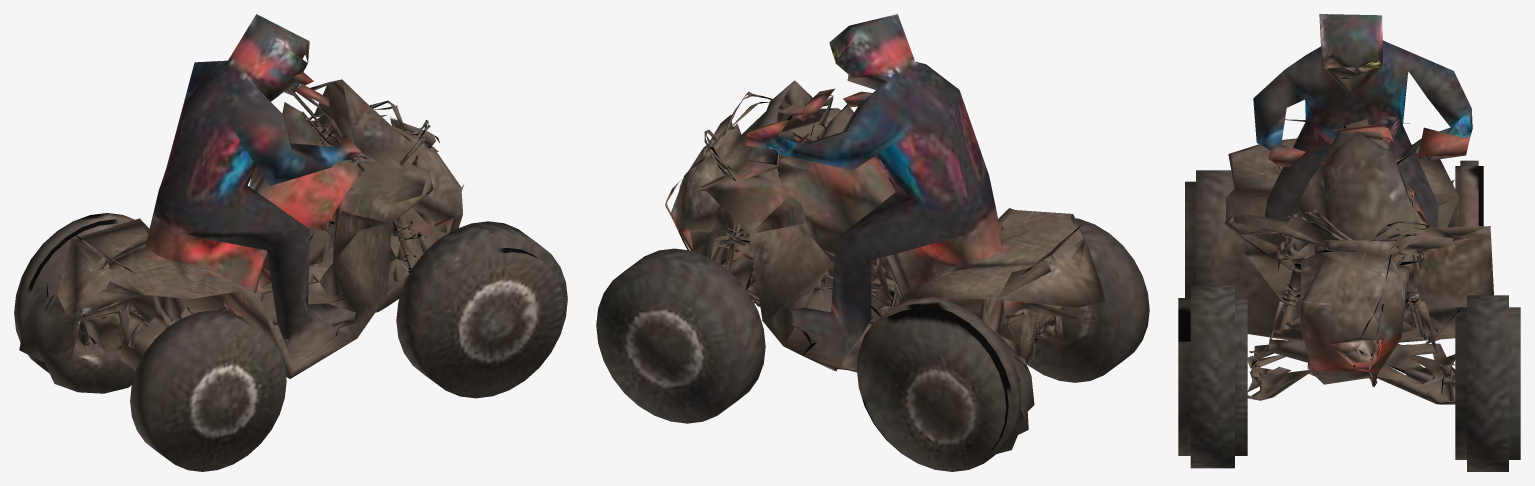
File: atv_gen.glb
3 renders of one model, left to right at view 1: azimuth 30°, elevation 25°; view 2: azimuth 150°, elevation 25°; view 3: azimuth 270°, elevation 25°, orthographic. The views are drawn at different scales.
Visible parts, largest first — view 1: Body, Wheel_FL, Wheel_RL, Wheel_RR; view 2: Body, Wheel_FR, Wheel_RR, Wheel_RL; view 3: Body, Wheel_FL, Wheel_FR, Wheel_RL, Wheel_RR.
Boxes of the visible parts, x1,y1,x2,y2 form: Body: [19, 14, 464, 393]; Wheel_FL: [396, 221, 567, 398]; Wheel_RL: [130, 310, 286, 471]; Wheel_RR: [14, 213, 134, 372]; Body: [665, 14, 1105, 453]; Wheel_FR: [596, 248, 765, 423]; Wheel_RR: [857, 297, 1021, 471]; Wheel_RL: [1027, 218, 1149, 382]; Body: [1211, 14, 1493, 404]; Wheel_FL: [1178, 285, 1247, 468]; Wheel_FR: [1455, 295, 1520, 471]; Wheel_RL: [1185, 170, 1234, 297]; Wheel_RR: [1455, 160, 1483, 226].
Size of the model in its own units: 2.45 by 1.97 by 1.59.
1 material, 1 textured.
